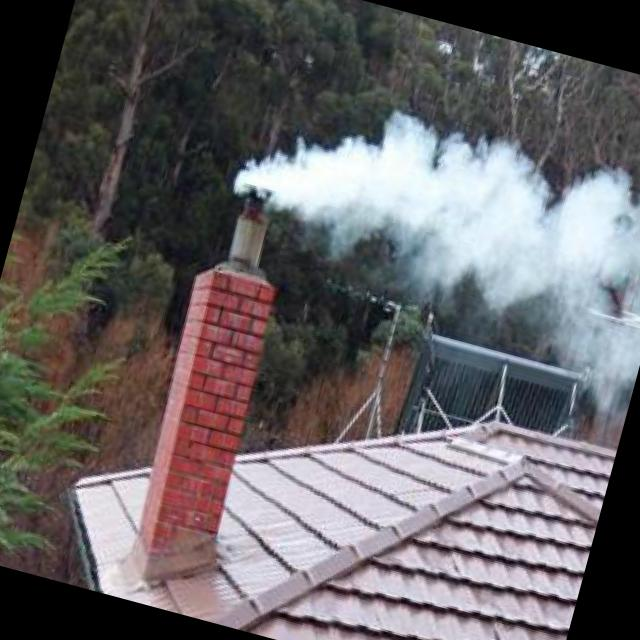smoke: (199, 59, 640, 390)
